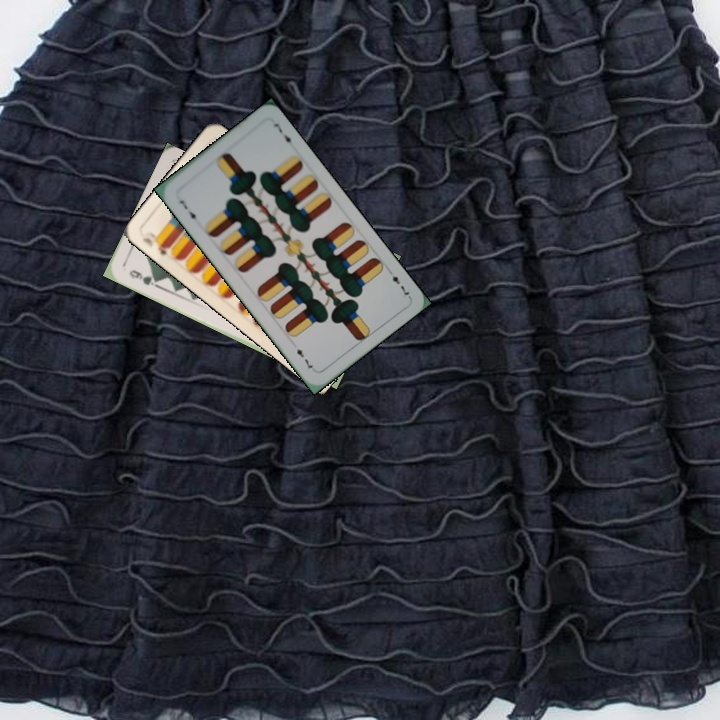E10: (137, 228, 173, 258)
E7: (384, 265, 412, 300), (175, 196, 200, 226)
G9: (125, 265, 161, 289)
